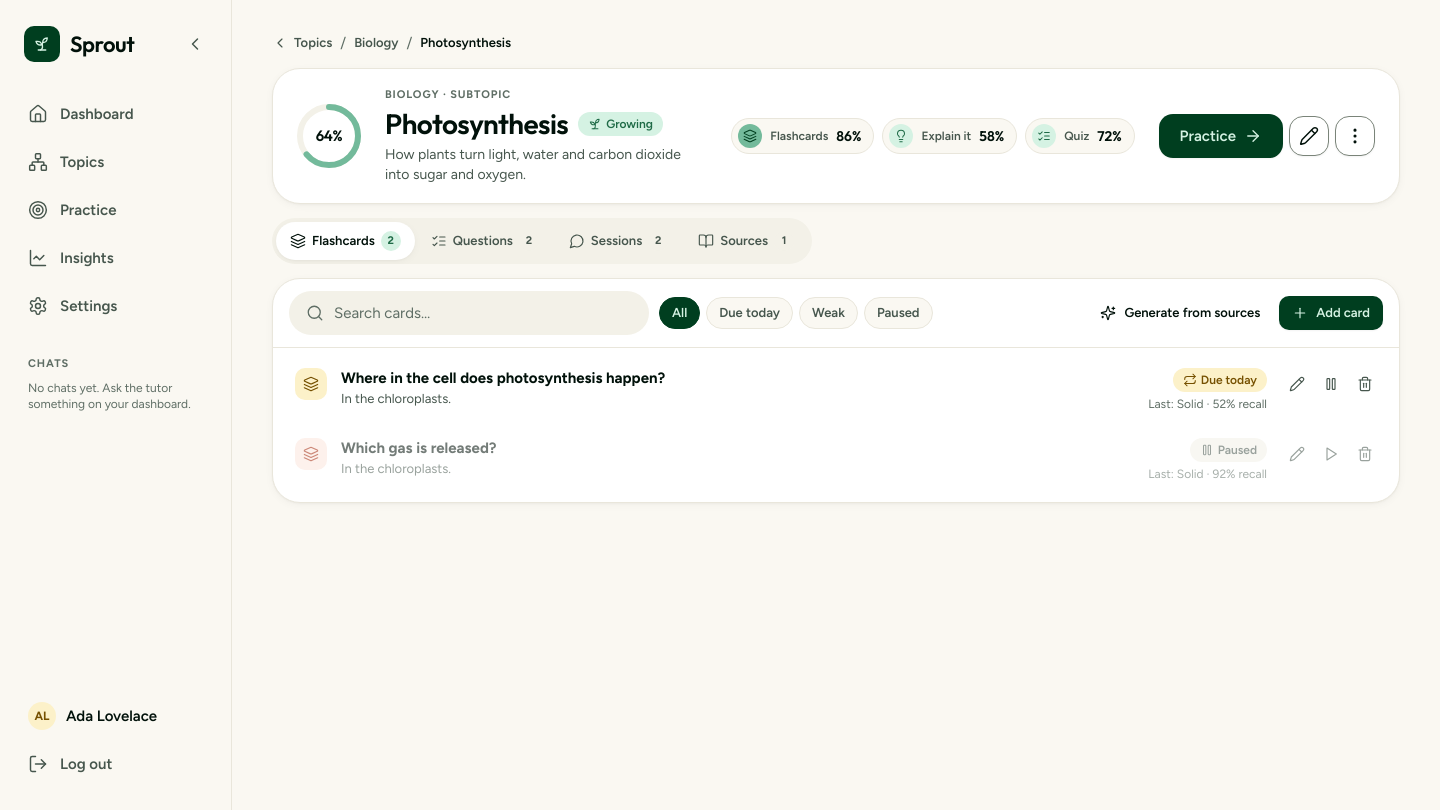
Test case: SubtopicView › edits a card in place
The width and height of the screenshot is (1440, 810).
Click the button with test id "edit-card". click: [1297, 384]
box: left=1281, top=368, right=1313, bottom=400
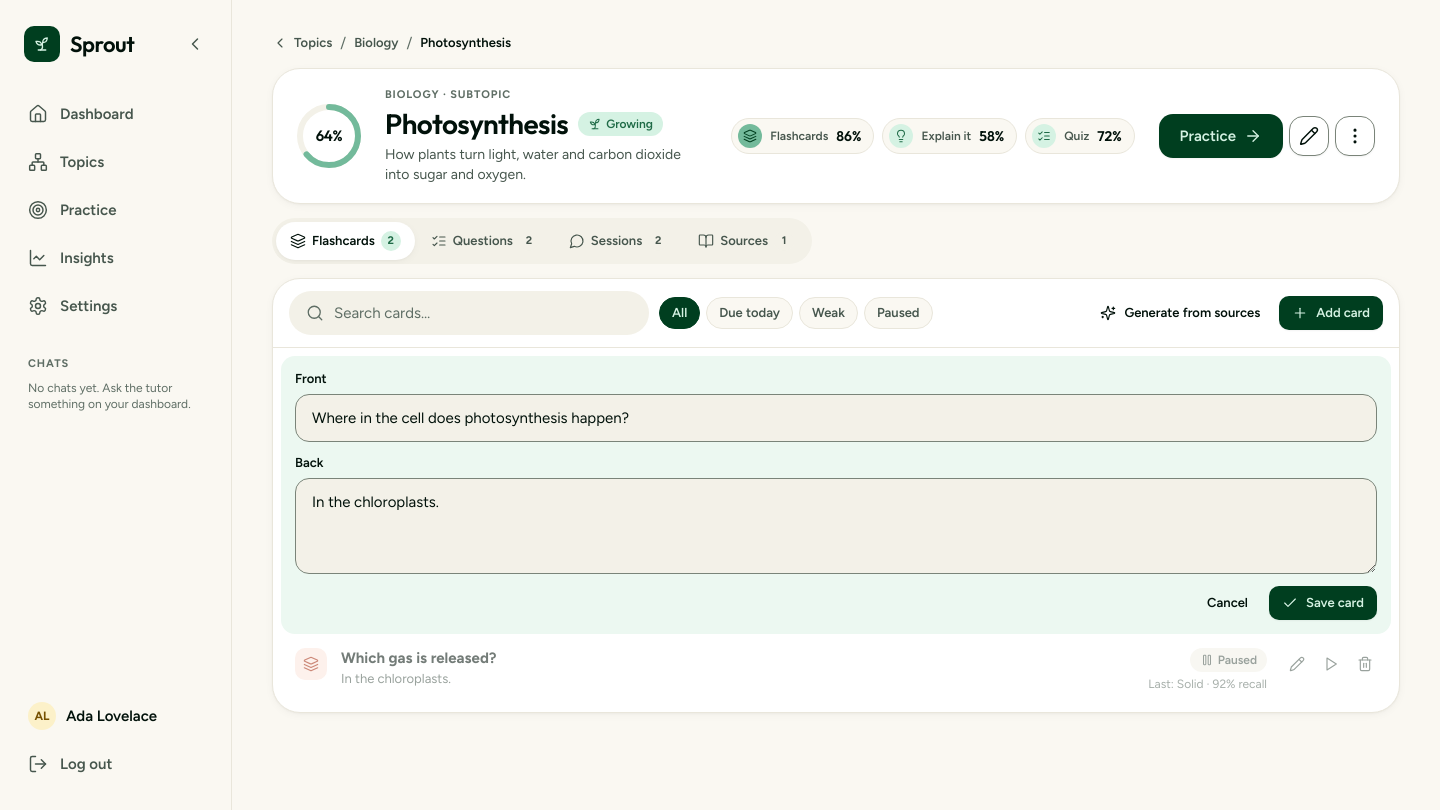
Replace the text in the field with test id "card-front" with "Sharper front". click: [840, 418]
box: left=312, top=395, right=1368, bottom=441
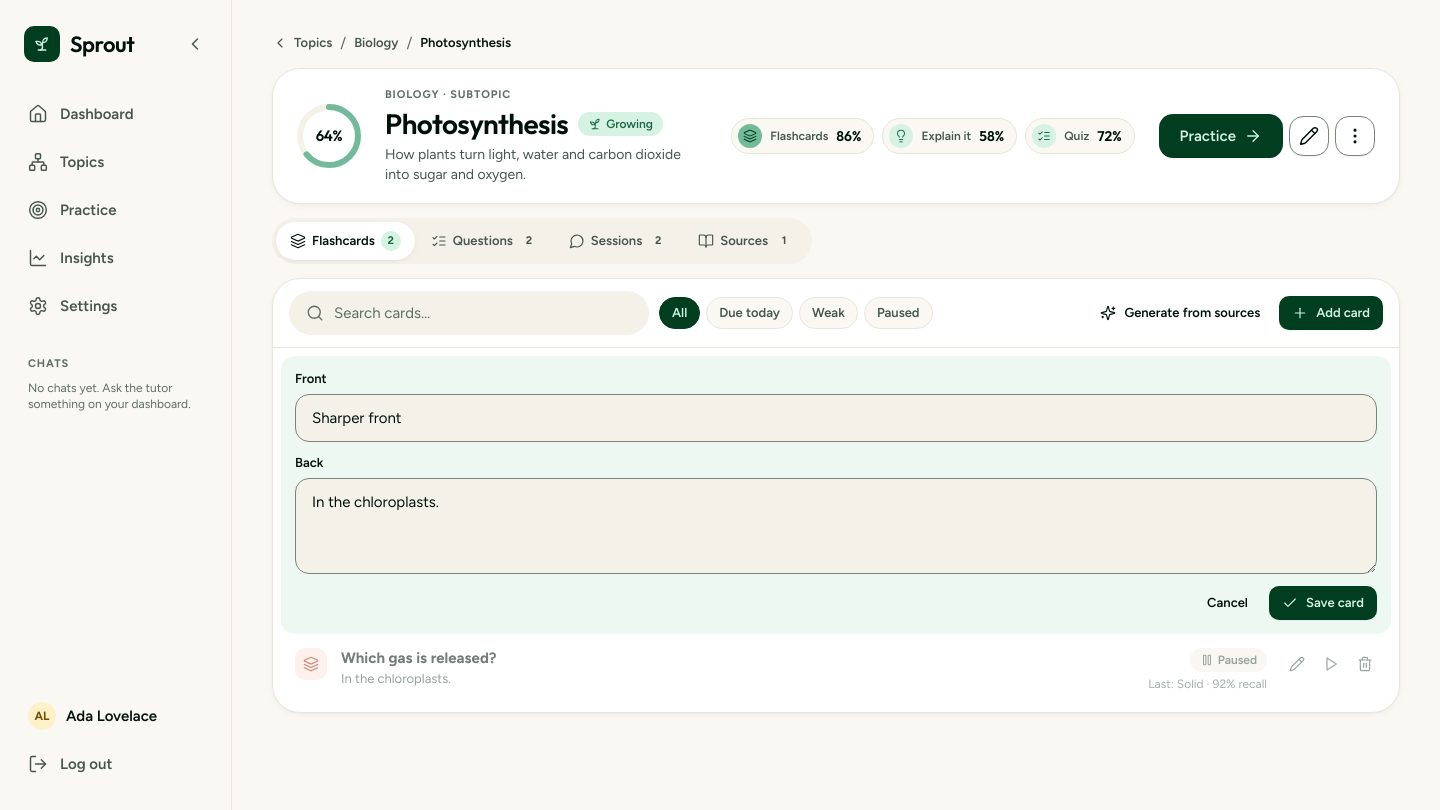
Submit the form with test id "card-editor", box left=281, top=356, right=1391, bottom=634
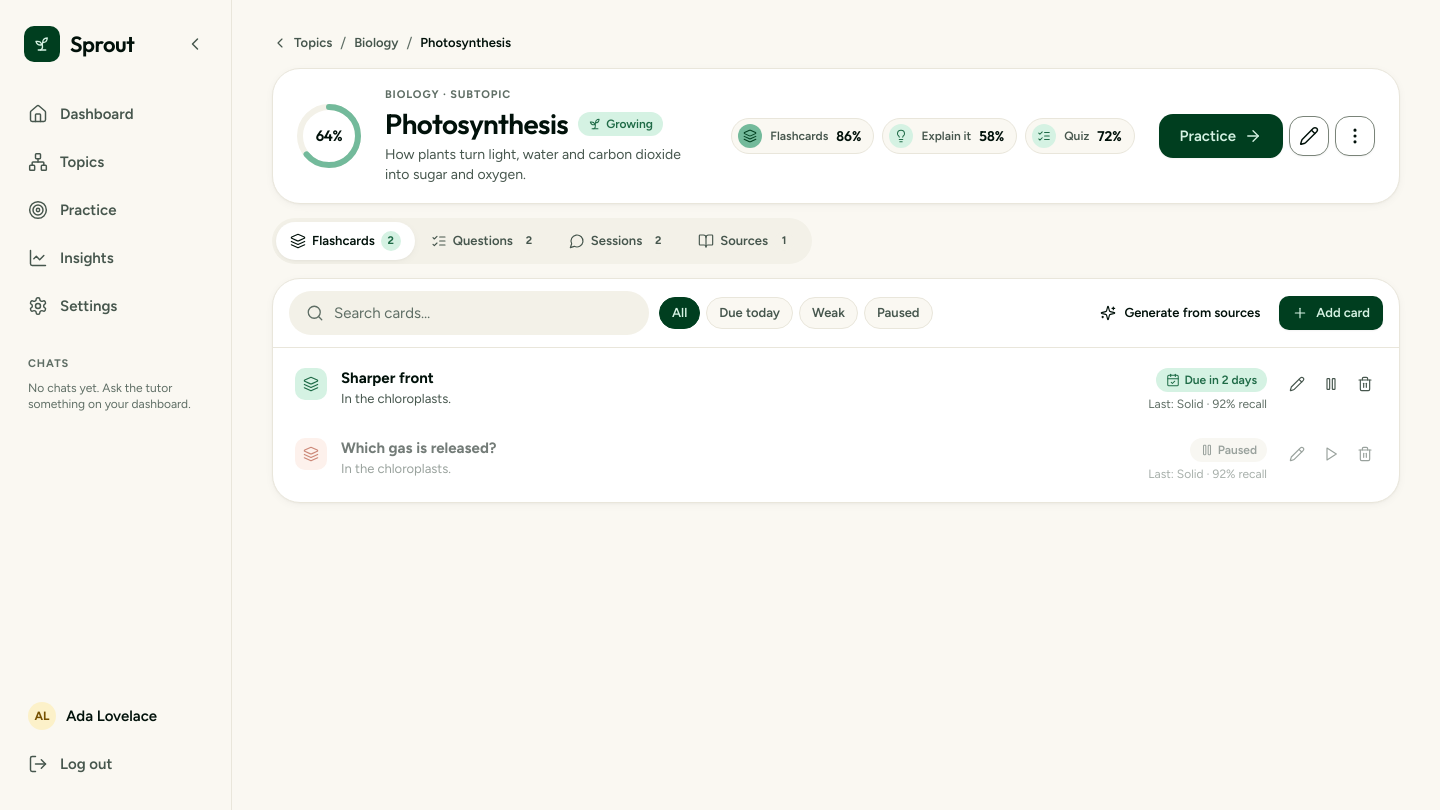
Check: the text with test id "card-front-text" reads "Sharper front", box left=341, top=369, right=434, bottom=387
